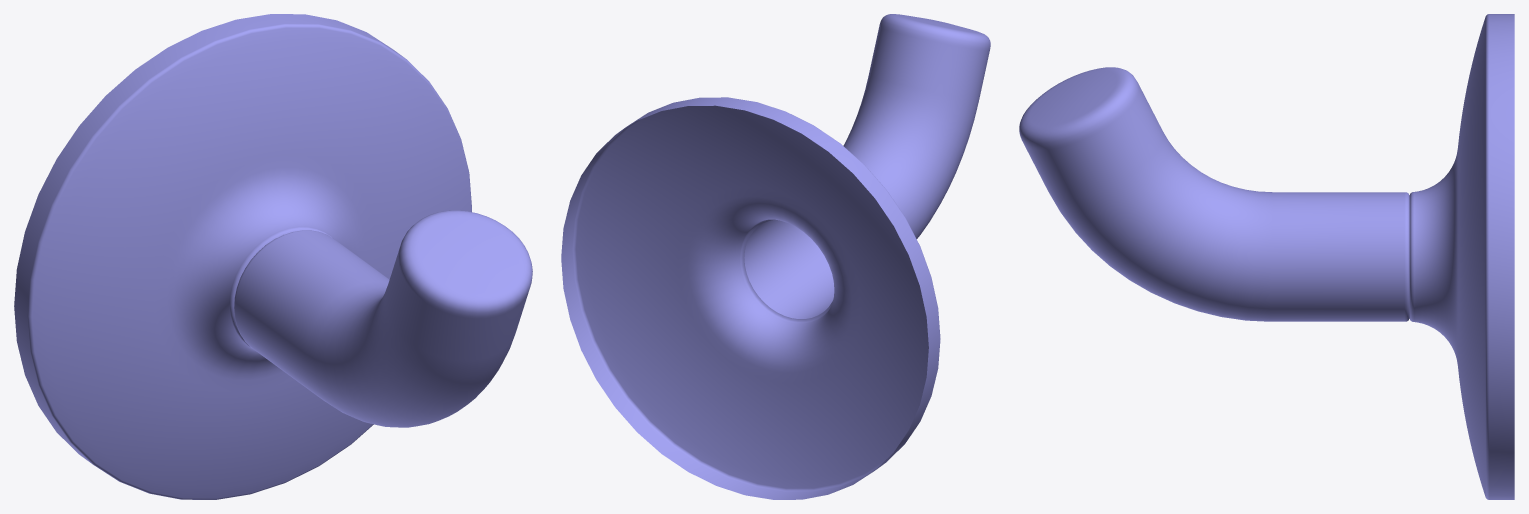
File: key hook.fbx
The picture shows the model from 3 angles, left to right: view 1: azimuth 30°, elevation 25°; view 2: azimuth 150°, elevation 25°; view 3: azimuth 270°, elevation 25°; orthographic projection. The views are drawn at different scales.
Visible parts, largest first — view 1: Robe_Hook_01; view 2: Robe_Hook_01; view 3: Robe_Hook_01.
Boxes of the visible parts, bbox=[...] form: Robe_Hook_01: bbox=[14, 14, 532, 499]; Robe_Hook_01: bbox=[561, 14, 990, 499]; Robe_Hook_01: bbox=[1019, 14, 1514, 499].
Bounding box in the file's own units: 236 × 236 × 241.
